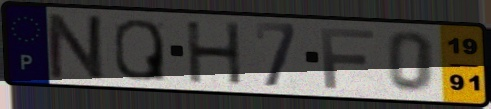0: (383, 28, 438, 96)
7: (253, 19, 299, 92)
F: (317, 26, 378, 91)
H: (182, 20, 246, 87)
N: (46, 11, 110, 83)
Q: (112, 17, 169, 83)
